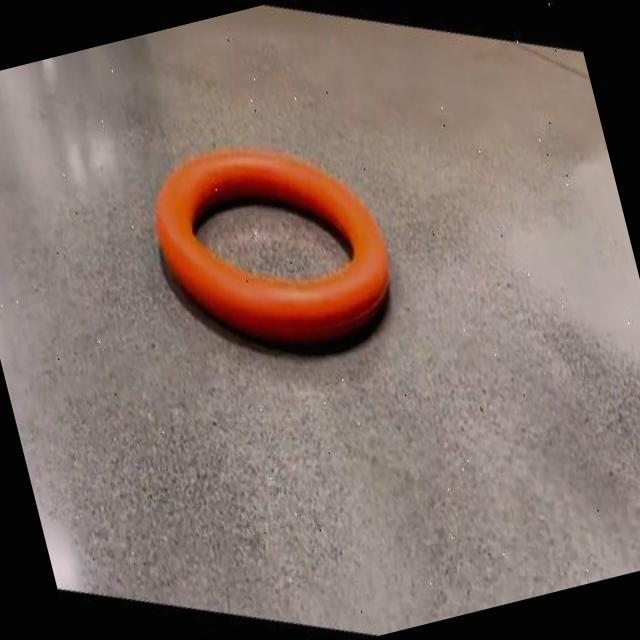note: (156, 149, 389, 345)
